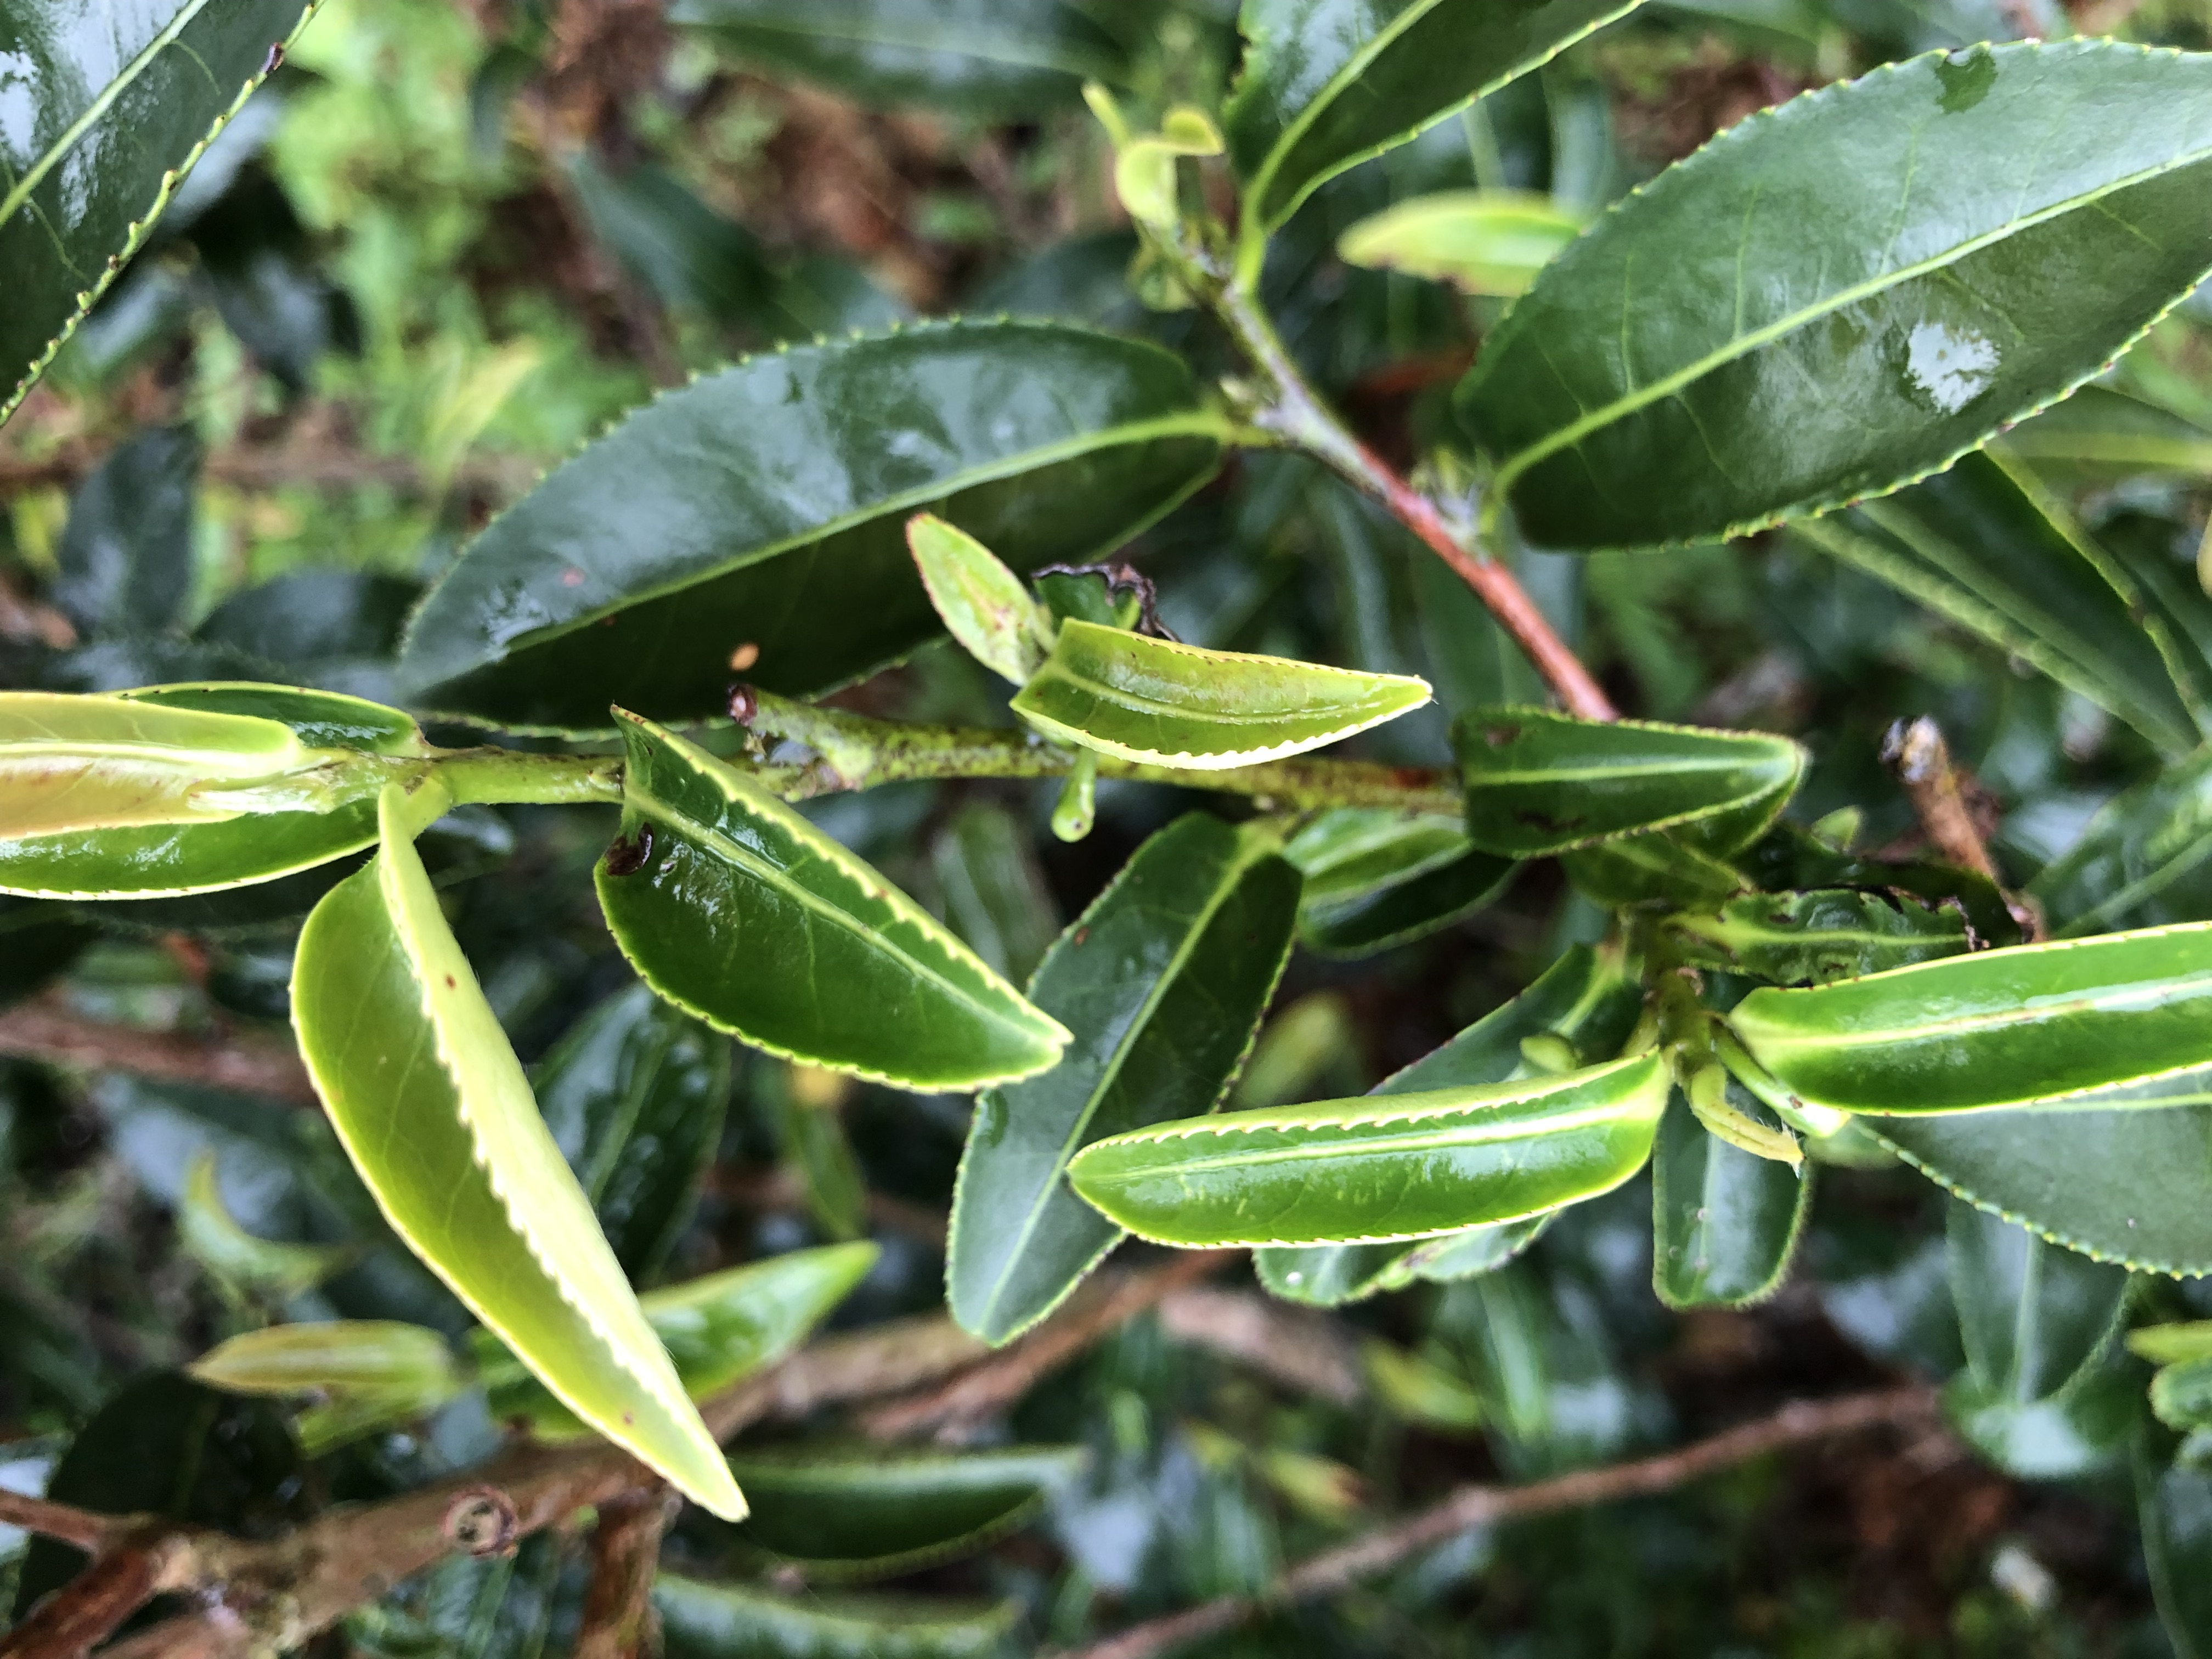formosa: (1038, 617, 1446, 760)
